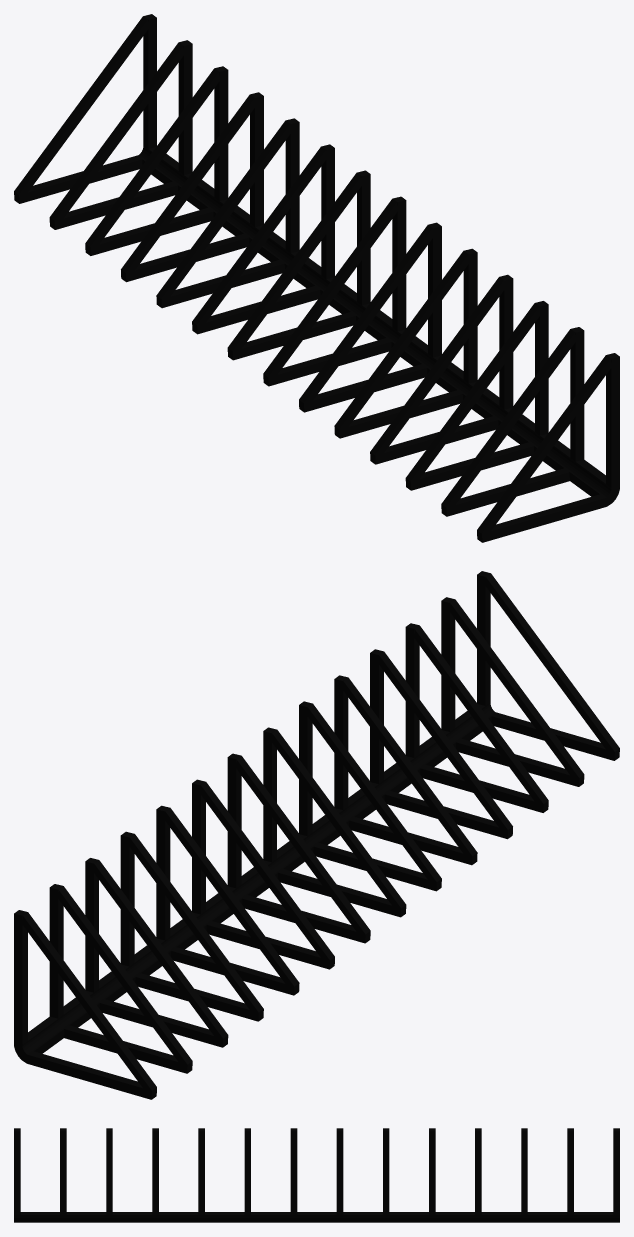
Rendered from bike_rack.fbx.
The picture shows the model from 3 angles, top to bottom: view 1: azimuth 30°, elevation 25°; view 2: azimuth 150°, elevation 25°; view 3: azimuth 270°, elevation 25°; orthographic projection. The views are drawn at different scales.
Parts seen in each view (by area): view 1: Cube; view 2: Cube; view 3: Cube.
Part boxes in pixels (bbox=[...]): Cube: bbox=[14, 14, 619, 542]; Cube: bbox=[14, 571, 619, 1099]; Cube: bbox=[14, 1128, 619, 1222].
Size of the model in its own units: 78.32 by 82.87 by 460.
Materials: 1 (1 with a texture image).
